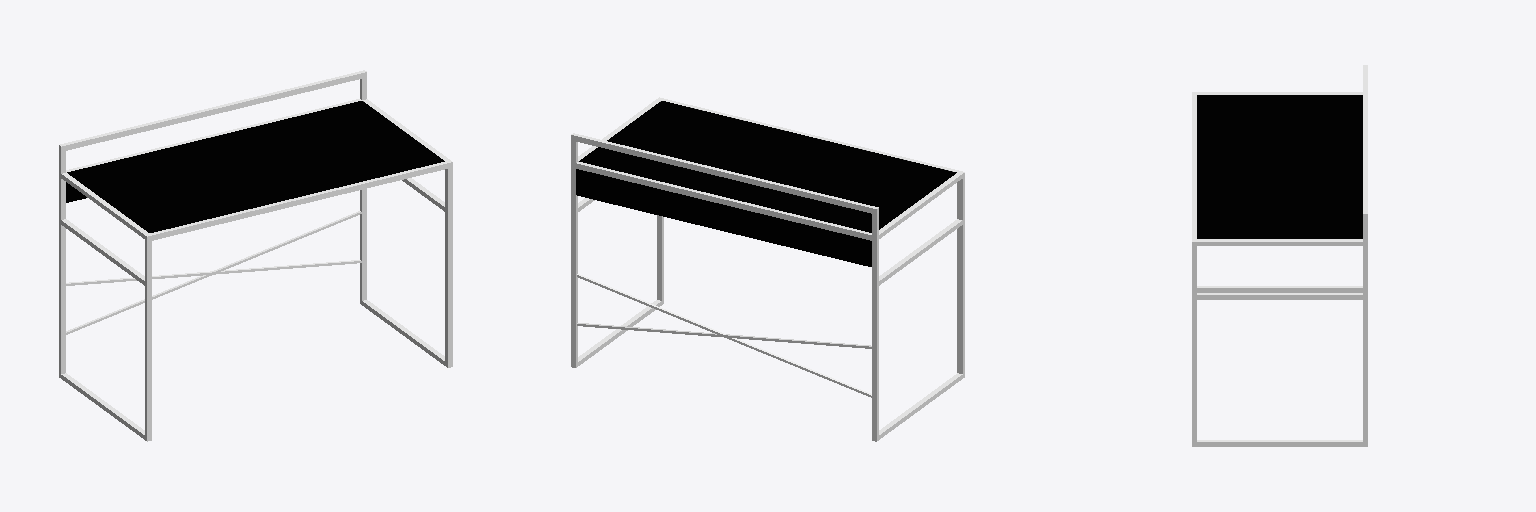
File: GELSTED.obj
The picture shows the model from 3 angles: view 1: azimuth 30°, elevation 25°; view 2: azimuth 150°, elevation 25°; view 3: azimuth 270°, elevation 25°; orthographic projection.
Visible parts, largest first — view 1: Cube.009_Cube.013, Cube.008_Cube.012, Cube.002, Cube.001; view 2: Cube.009_Cube.013, Cube.008_Cube.012, Cube.002, Cube.001; view 3: Cube.009_Cube.013, Cube.008_Cube.012, Cube.001, Cube.002.
Boxes of the visible parts, x1=… form: Cube.009_Cube.013: x1=66, y1=101, x2=444, y2=232; Cube.008_Cube.012: x1=59, y1=70, x2=452, y2=441; Cube.002: x1=61, y1=178, x2=444, y2=334; Cube.001: x1=61, y1=300, x2=444, y2=439; Cube.009_Cube.013: x1=576, y1=101, x2=956, y2=266; Cube.008_Cube.012: x1=571, y1=97, x2=964, y2=441; Cube.002: x1=577, y1=198, x2=962, y2=397; Cube.001: x1=578, y1=300, x2=962, y2=439; Cube.009_Cube.013: x1=1197, y1=95, x2=1362, y2=238; Cube.008_Cube.012: x1=1192, y1=65, x2=1367, y2=446; Cube.001: x1=1197, y1=293, x2=1362, y2=446; Cube.002: x1=1197, y1=286, x2=1362, y2=292.
Size of the model in its own units: 2.4 by 1.74 by 1.2.